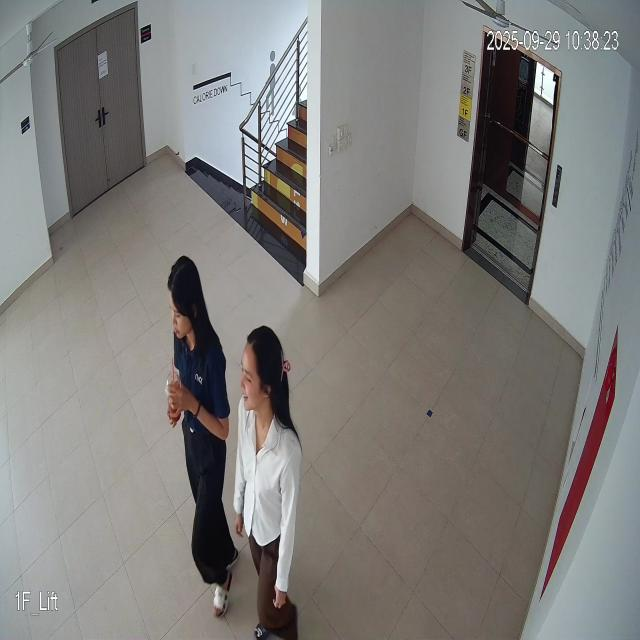face: (238, 322, 294, 420), (166, 254, 199, 346)
